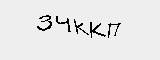З: (36, 12, 53, 35)
К: (88, 20, 106, 39), (72, 17, 88, 37)
П: (104, 21, 123, 40)
Ч: (55, 14, 71, 34)
